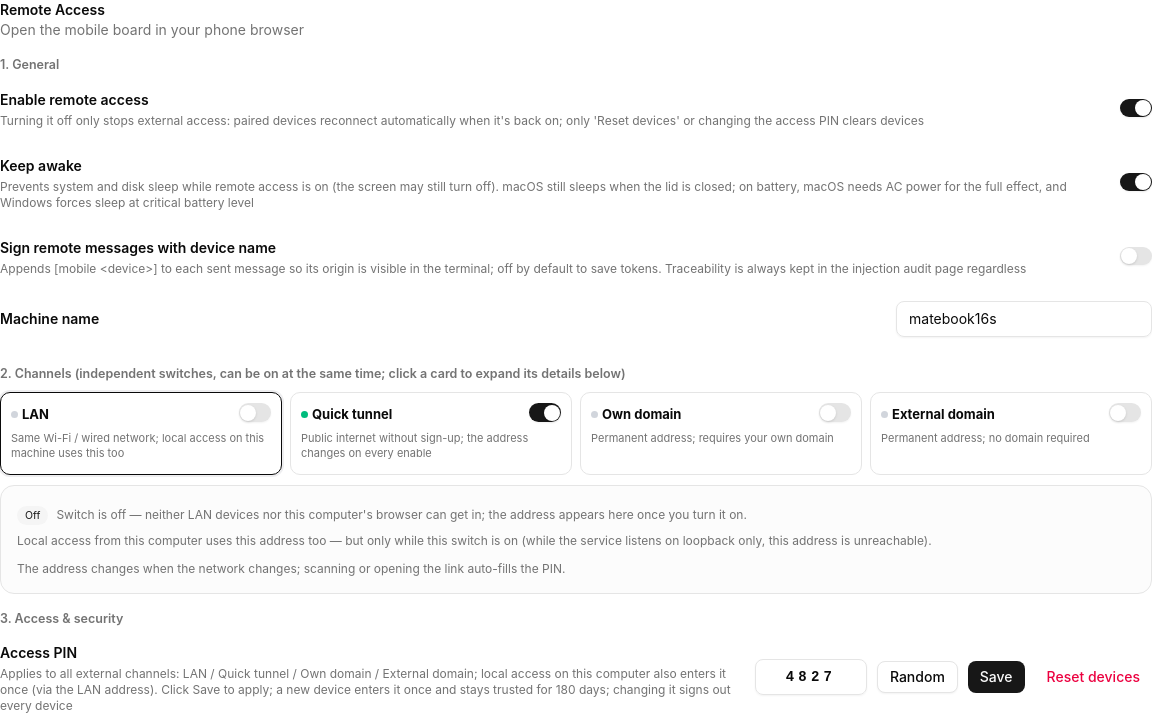
Test: RemoteSection lan 开关 P7 TLS Dialog 流（M5 A6） › 开 lan 收到 P7 特征 Err → 弹 TLS 确认 Dialog，不 toast 报错
Click the switch named "LAN" at (255,412), box top-left (239, 403), bottom-right (271, 422)
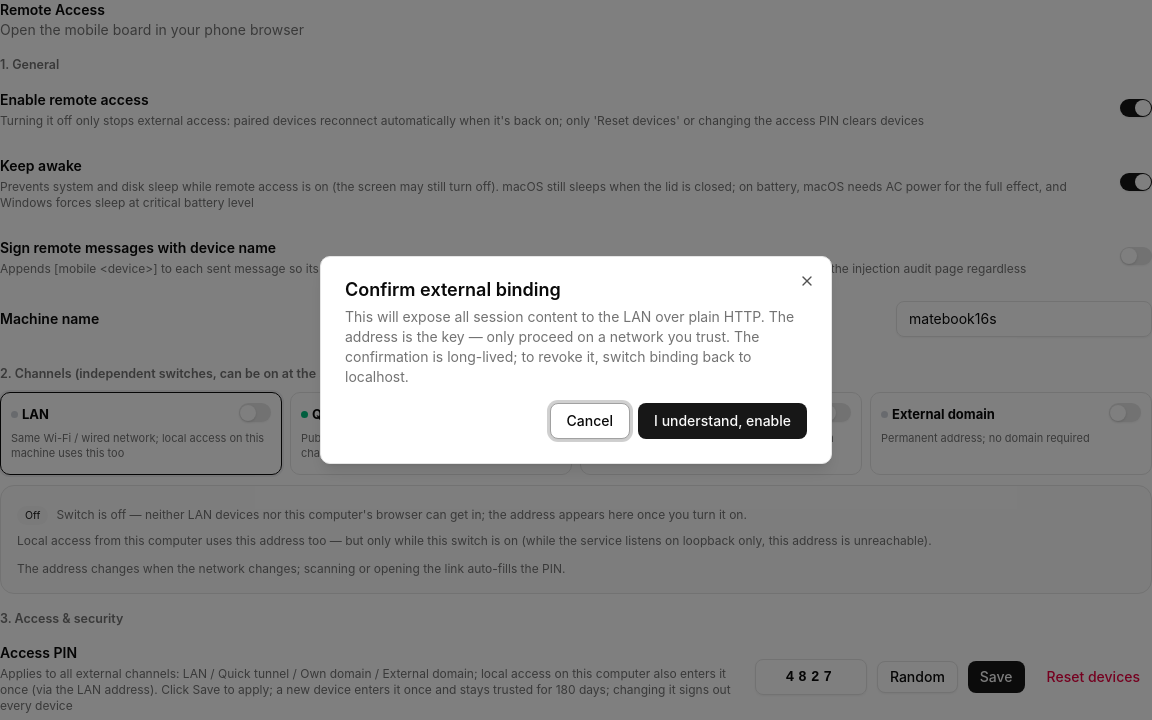
Result: the heading "Confirm external binding" is shown at top-left (345, 279), bottom-right (561, 300)
